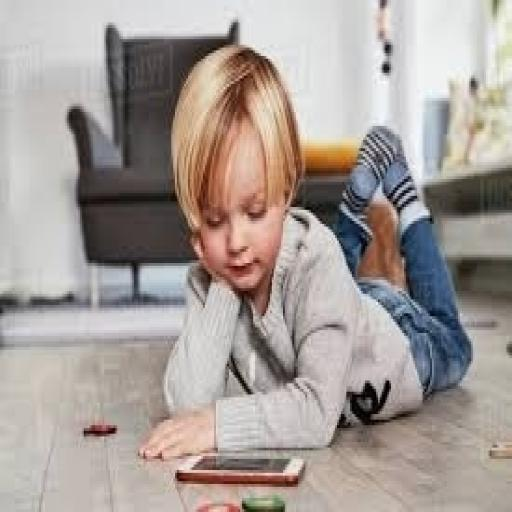texting: (136, 42, 473, 464)
